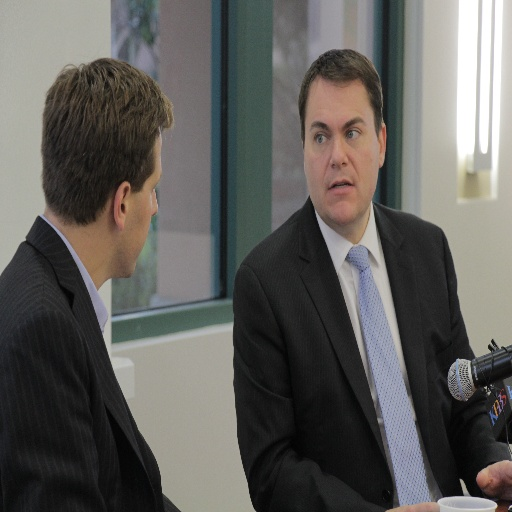hand: (475, 459, 511, 503), (384, 499, 441, 511)
